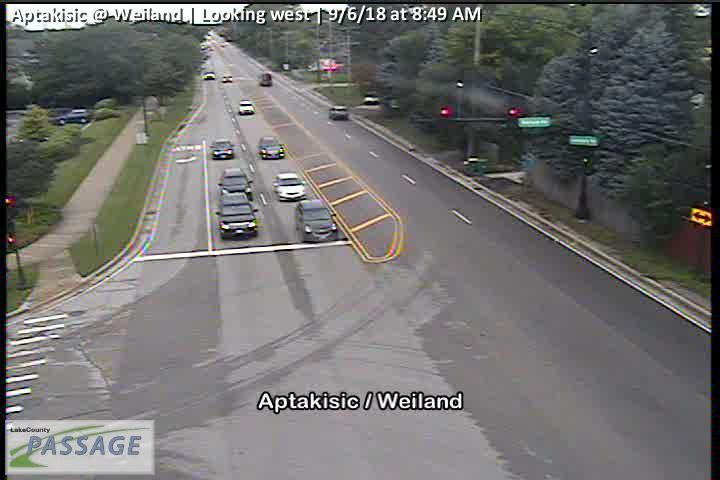SUV: (215, 192, 258, 240), (296, 199, 338, 243), (220, 167, 253, 201), (329, 104, 348, 120)
Sedan: (272, 172, 305, 200), (257, 135, 284, 160), (209, 139, 235, 160), (238, 100, 255, 115)
